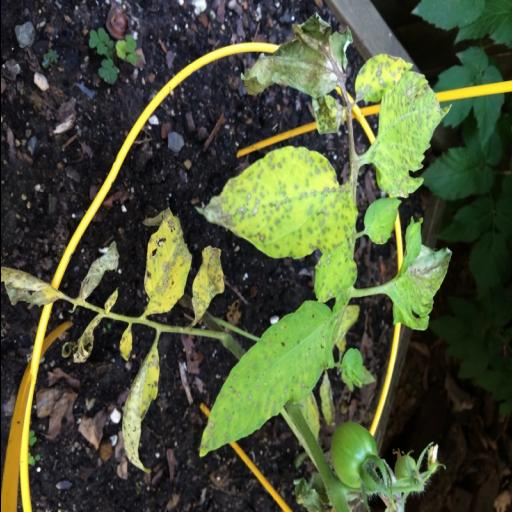Septoria: (196, 300, 342, 458), (194, 144, 358, 260), (367, 70, 453, 200), (383, 213, 453, 335), (140, 202, 192, 314), (120, 345, 160, 475), (353, 54, 413, 104), (312, 244, 358, 300), (362, 196, 402, 244), (309, 95, 343, 137)
